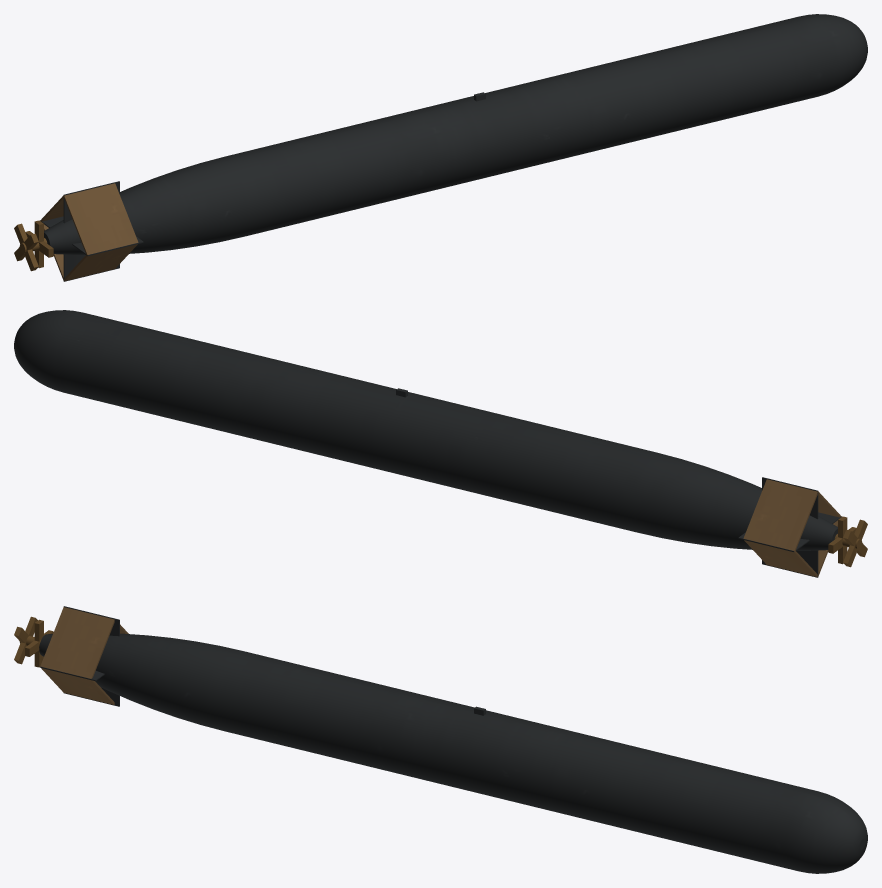
Rendered from type91.glb.
3 renders of one model, top to bottom at view 1: azimuth 30°, elevation 25°; view 2: azimuth 150°, elevation 25°; view 3: azimuth 330°, elevation 25°, orthographic.
Parts seen in each view (by area): view 1: type91; view 2: type91; view 3: type91.
Boxes of the visible parts, x1,y1,x2,y2 form: type91: (14,14,867,281); type91: (14,310,867,577); type91: (14,606,867,873).
Bounding box in the file's own units: 5.27 × 0.52 × 0.52.
Materials: 1 (1 with a texture image).
